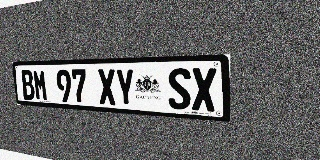7: (70, 69, 88, 104)
9: (56, 69, 73, 103)
B: (20, 70, 35, 100)
M: (33, 70, 48, 101)
S: (167, 68, 191, 110)
X: (191, 68, 217, 112), (97, 69, 117, 105)
Y: (115, 69, 136, 107)
